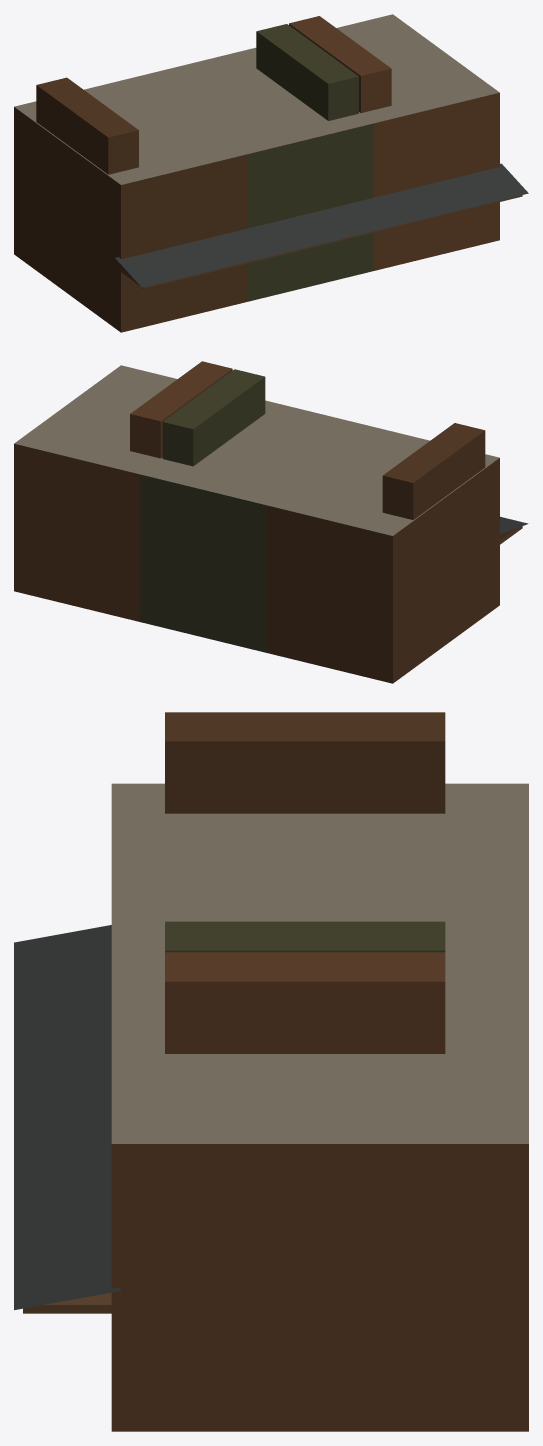
File: rw-mill-row.towns-v1.lod2.glb
3 renders of one model, top to bottom at view 1: azimuth 30°, elevation 25°; view 2: azimuth 150°, elevation 25°; view 3: azimuth 270°, elevation 25°, orthographic. The views are drawn at different scales.
Parts seen in each view (by area): view 1: rw-mill-row; view 2: rw-mill-row; view 3: rw-mill-row.
Boxes of the visible parts, x1=… form: rw-mill-row: x1=14, y1=14, x2=528, y2=332; rw-mill-row: x1=14, y1=361, x2=528, y2=683; rw-mill-row: x1=14, y1=712, x2=528, y2=1431.
Bounding box in the file's own units: 19.6 × 8.95 × 11.6.
